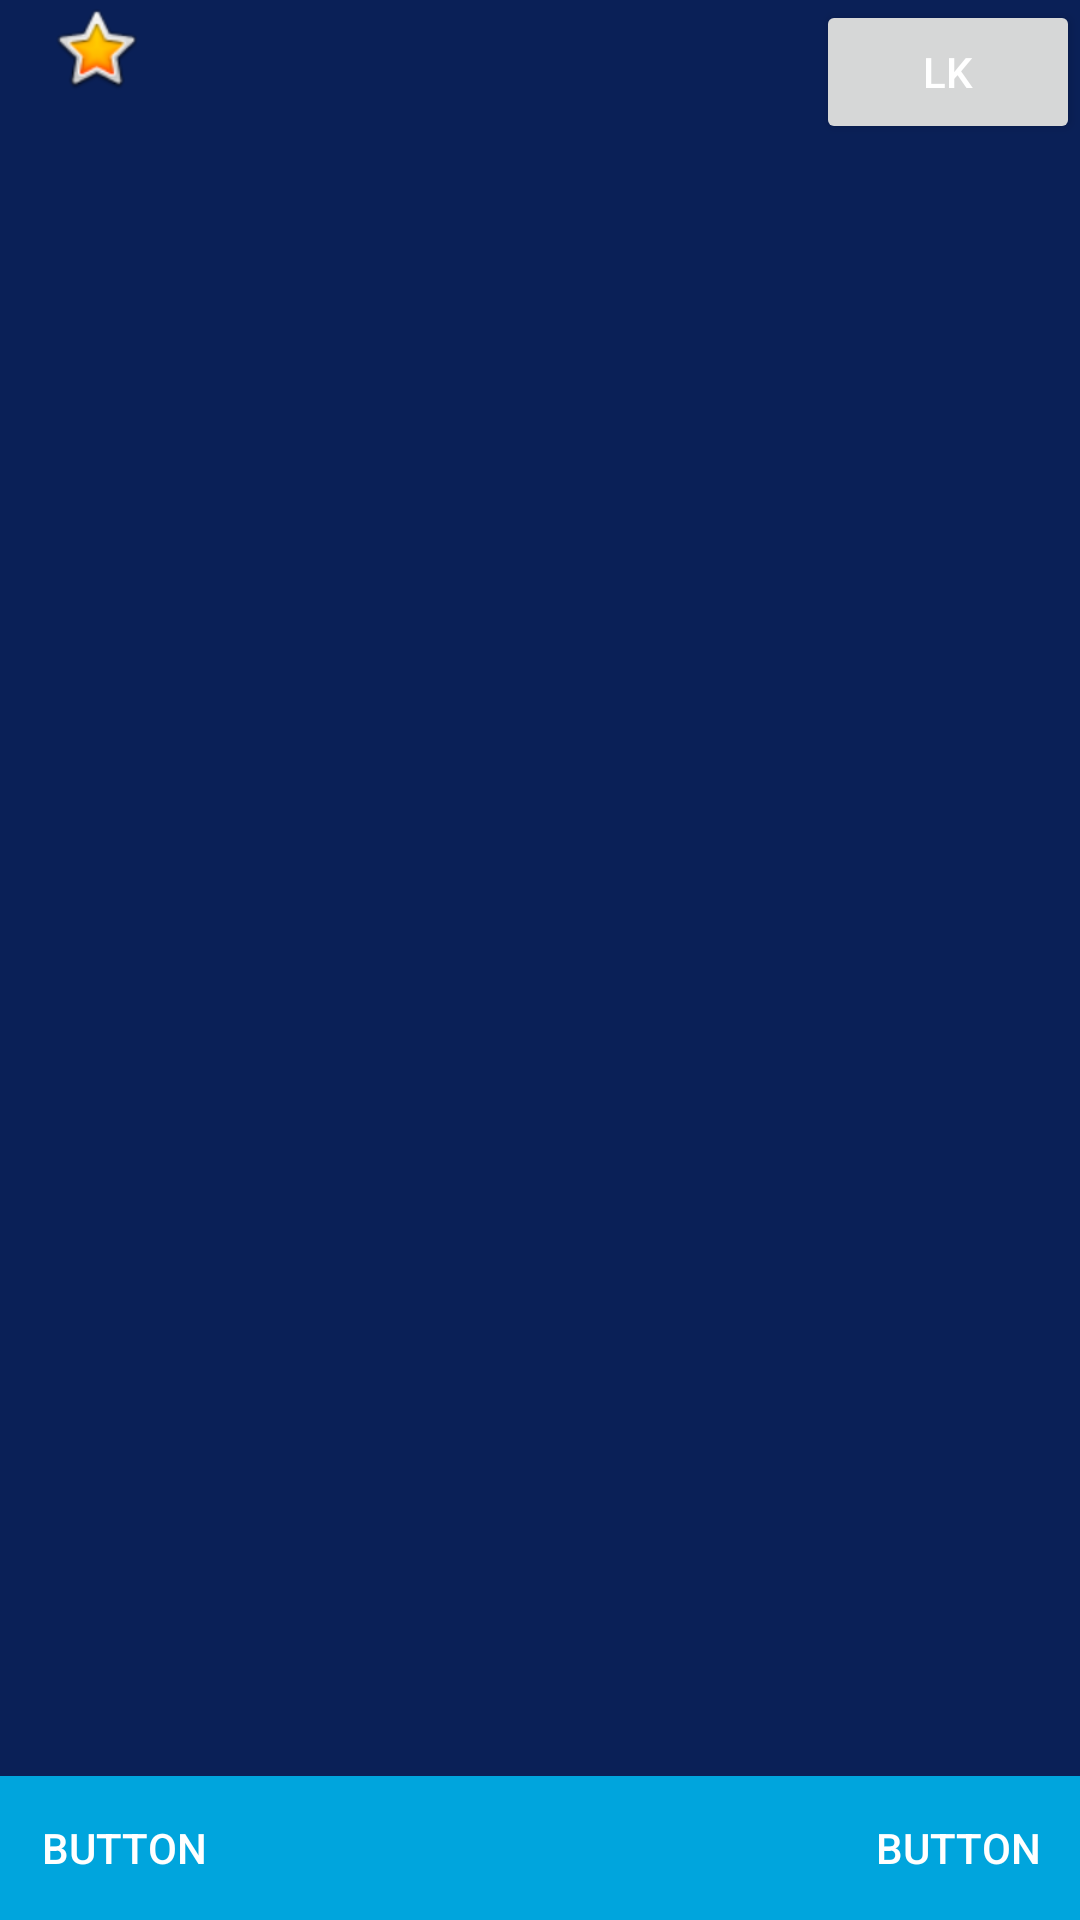

Where icons sit on this 1080×1920 app screen, as (x1, y1, x2, y2):
star on: (58, 11, 135, 86)
